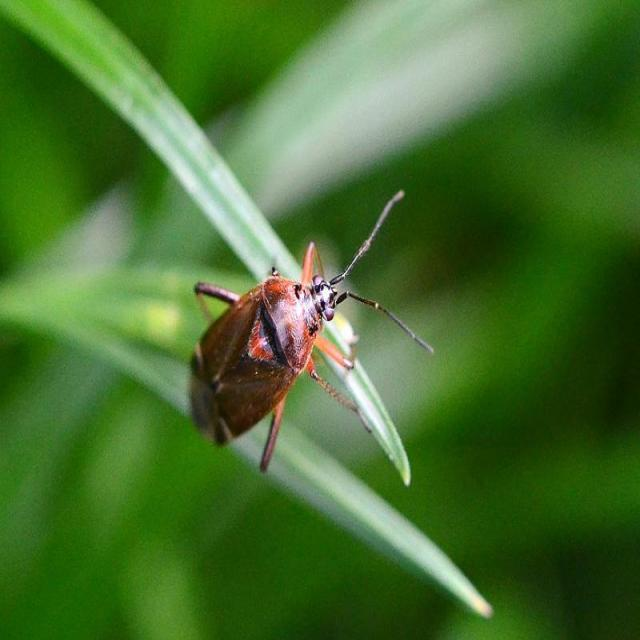Miridae-Adult-: (162, 178, 440, 488)
